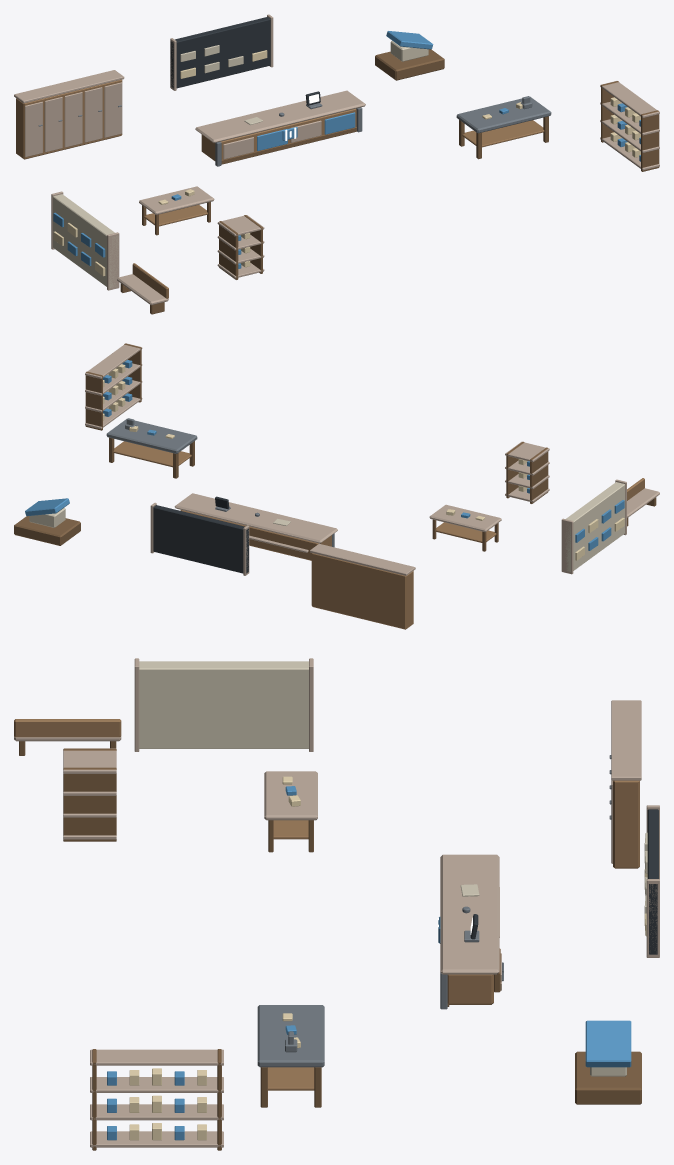
The model's file is keylot_property_office.glb.
The picture shows the model from 3 angles, top to bottom: view 1: azimuth 30°, elevation 25°; view 2: azimuth 150°, elevation 25°; view 3: azimuth 270°, elevation 25°; orthographic projection. The views are drawn at different scales.
Bounding box in the file's own units: 21.73 × 2.82 × 14.45.
